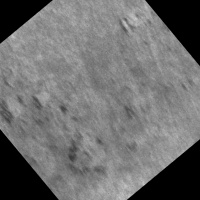rolled-in_scale: (0, 55, 117, 199), (111, 4, 152, 45)
